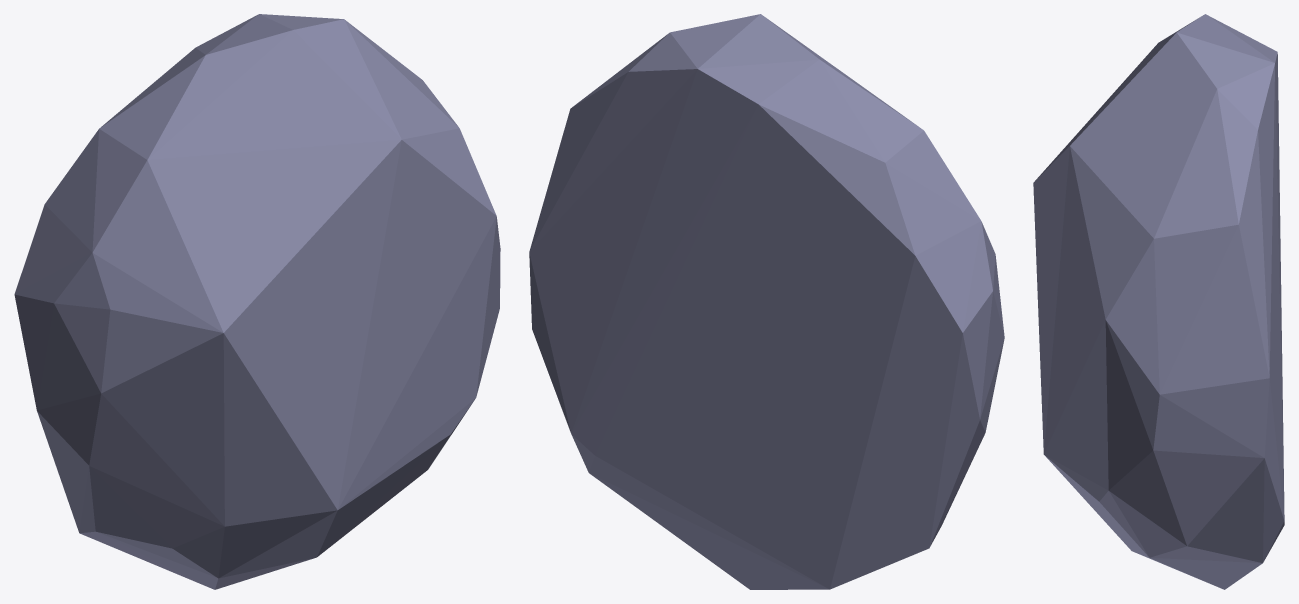
The model's file is food_prepared_bread_scoredSpiral_a01.glb.
3 views of the same model, side by side, from view 1: azimuth 30°, elevation 25°; view 2: azimuth 150°, elevation 25°; view 3: azimuth 270°, elevation 25° (orthographic).
Parts seen in each view (by area): view 1: geometry_0; view 2: geometry_0; view 3: geometry_0.
Part boxes in pixels (x1,y1,x2,y2): geometry_0: (14, 14, 500, 589); geometry_0: (529, 14, 1004, 589); geometry_0: (1033, 14, 1284, 589).
Bounding box in the file's own units: 0.3918 × 0.4744 × 0.1916.
